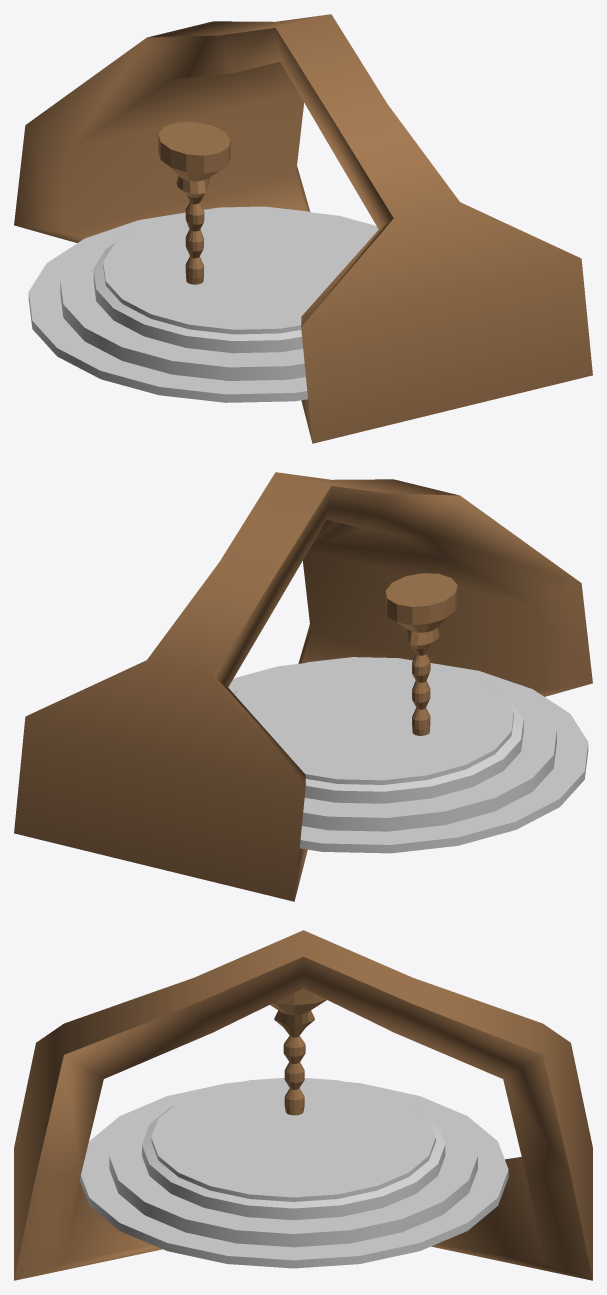
The model's file is Model_stage.fbx.
3 views of the same model, one above another, from view 1: azimuth 30°, elevation 25°; view 2: azimuth 150°, elevation 25°; view 3: azimuth 270°, elevation 25° (orthographic). The views are drawn at different scales.
Parts seen in each view (by area): view 1: pCylinder3, pCylinder1, pCylinder2; view 2: pCylinder3, pCylinder1, pCylinder2; view 3: pCylinder3, pCylinder1, pCylinder2.
Part boxes in pixels (box(x1,y1,x2,y2)): pCylinder3: box(14, 14, 592, 443); pCylinder1: box(28, 206, 378, 402); pCylinder2: box(158, 122, 230, 284); pCylinder3: box(14, 472, 592, 901); pCylinder1: box(228, 657, 588, 853); pCylinder2: box(385, 573, 457, 735); pCylinder3: box(14, 930, 592, 1280); pCylinder1: box(79, 1078, 508, 1268); pCylinder2: box(270, 988, 326, 1115).
Bounding box in the file's own units: 107 × 73.02 × 141.
